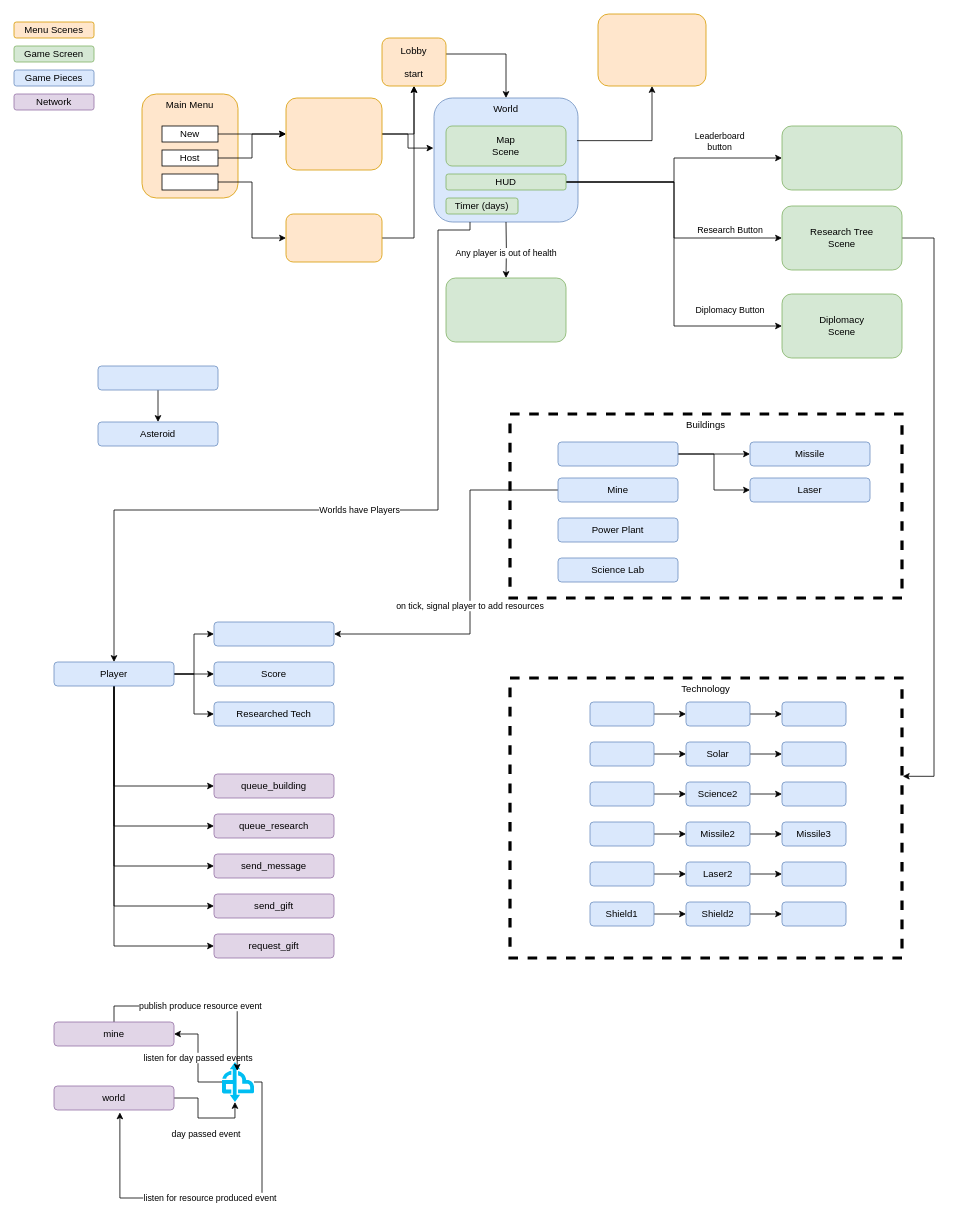
Some shapes in this 954 by 1218 pixel diagram are drawn without their labels. The centre of each missing label's shape, as x and y in pixels:
AsteroidWave: (157,377)
Coal: (621,753)
Defense: (617,453)
Game Over Scene: (505,309)
Game Setup Menu Num Players other options Start button: (333,133)
In Game Popup Menu Exit: (651,49)
Join: (189,181)
Join Game Menu Enter host/port Join button: (333,237)
Laser1: (621,873)
Laser3: (813,873)
Leaderboard Scene: (841,157)
Mine1: (621,713)
Mine2: (717,713)
Mine3: (813,713)
Missile1: (621,833)
Nuclear: (813,753)
Resources: (273,633)
Science1: (621,793)
Science3: (813,793)
Shield3: (813,913)
